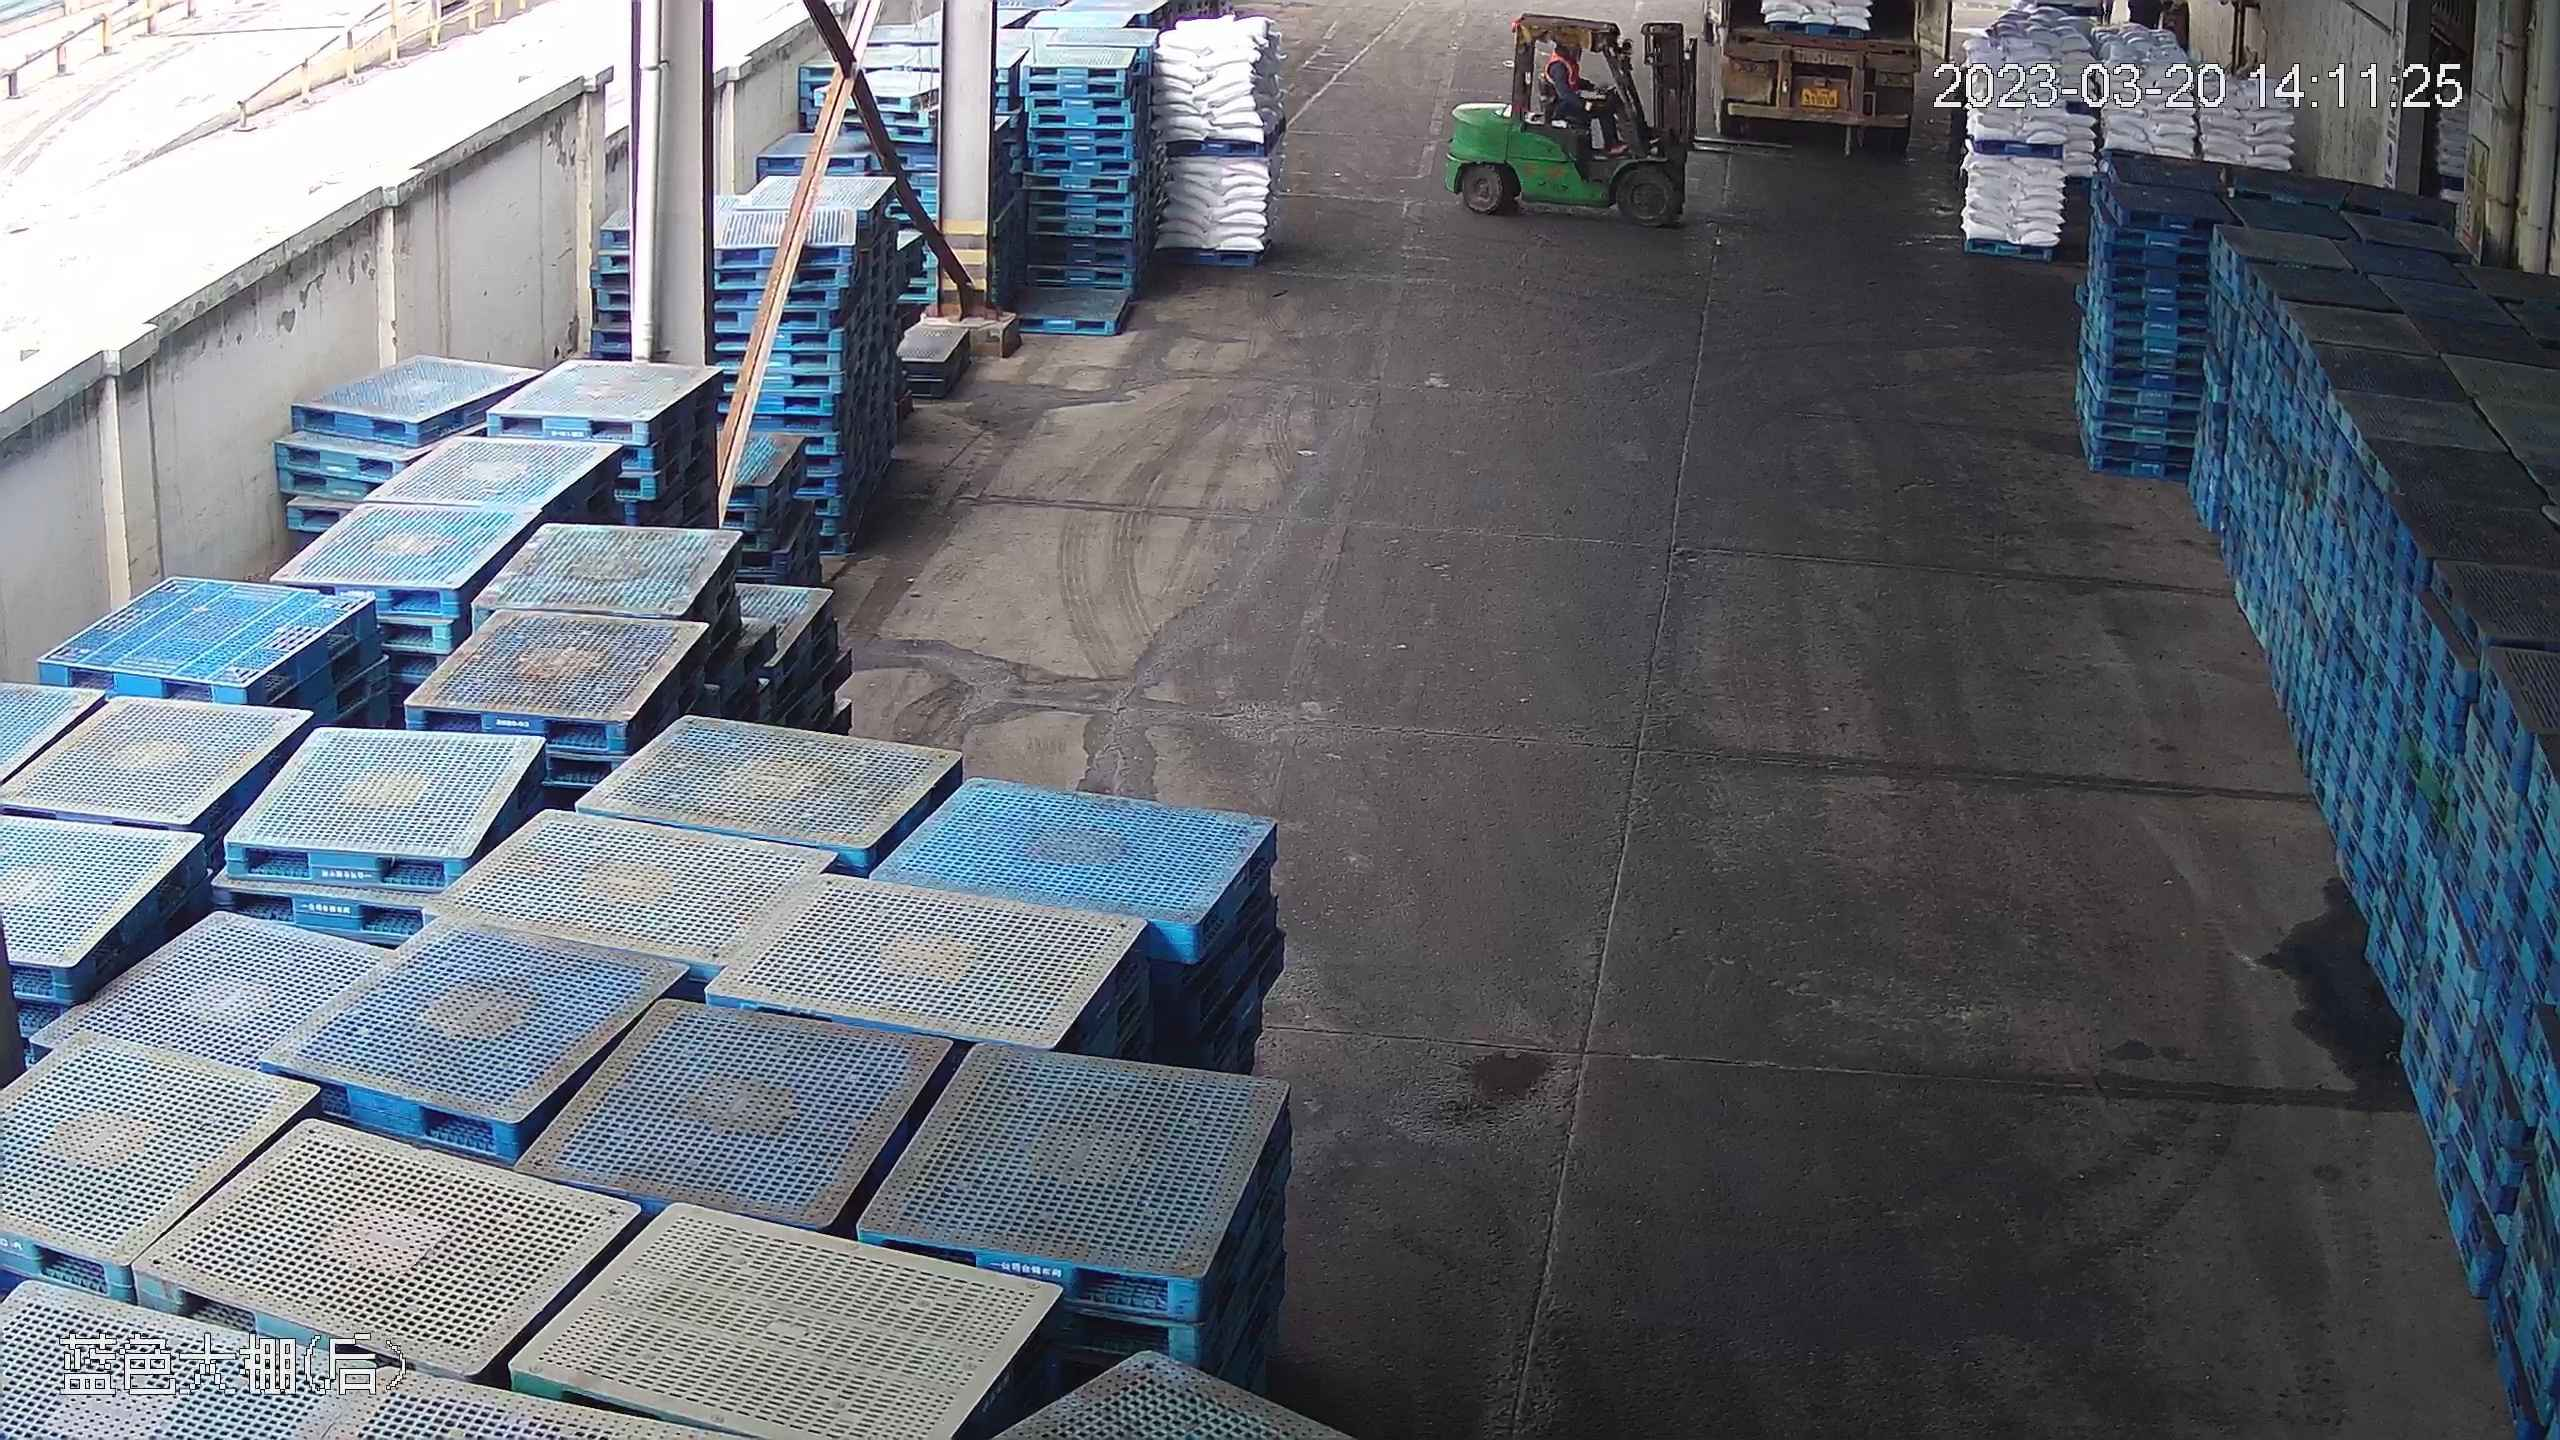head: (1544, 30, 1591, 82)
people: (1537, 30, 1620, 161)
truck: (1707, 0, 1932, 143)
